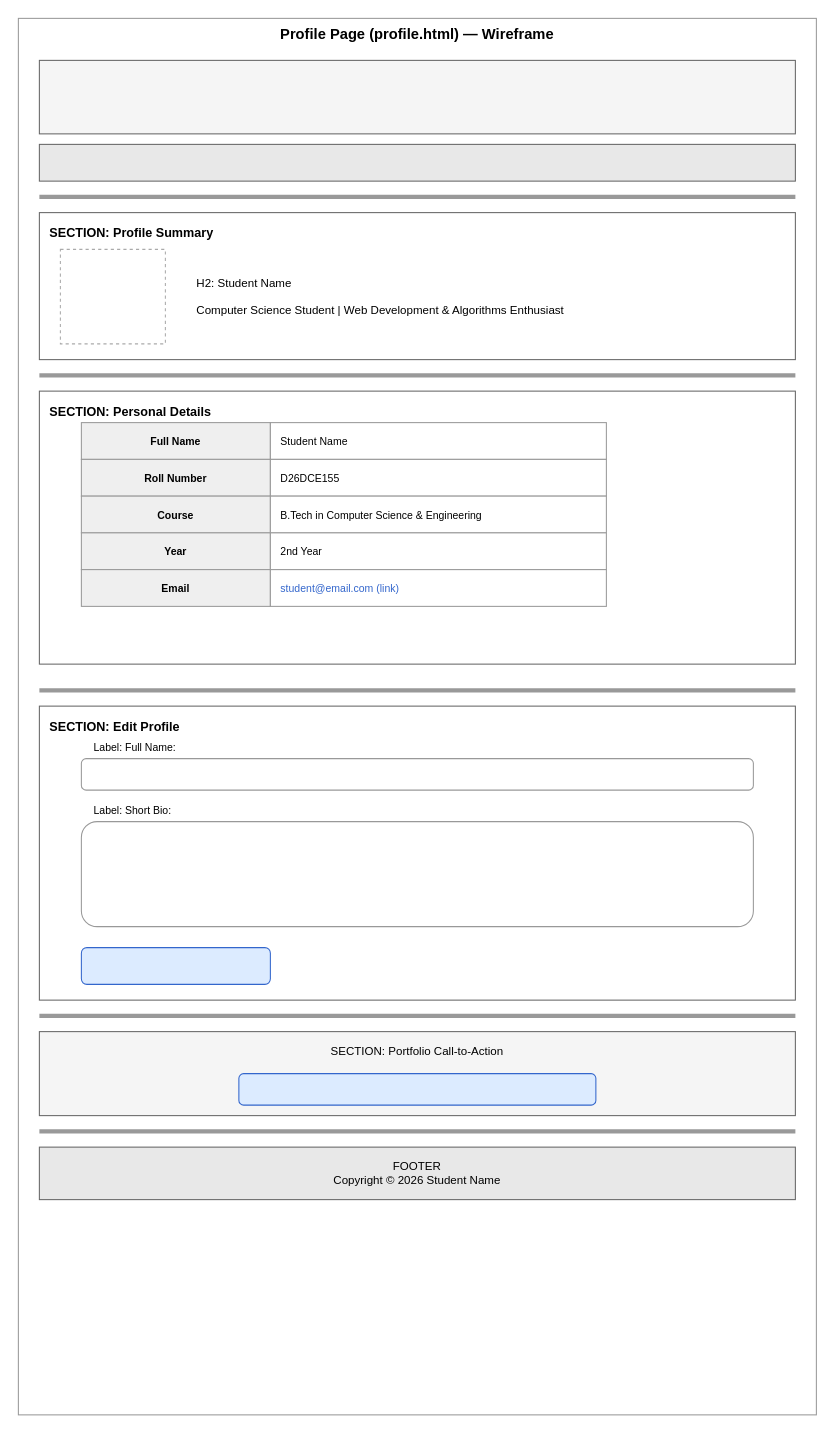
Some shapes in this 835 by 1433 pixel diagram are drawn without their labels. The centre of each missing label's shape, as x and y in pixels:
"[ Enter your full name ]" goes at pixel 416 774.
"[ Profile Photo ] 100x100" goes at pixel 112 296.
"[ Save Changes ]" goes at pixel 175 965.
"[ Tell us about yourself ] (multi-line textarea, 4 rows)" goes at pixel 416 874.
"HEADER Student Profile Personal and Academic Details" goes at pixel 416 96.
"NAV: ← Back to Home Page" goes at pixel 416 162.
"👉 [ Visit My Portfolio Page ] (link)" goes at pixel 417 1089.
